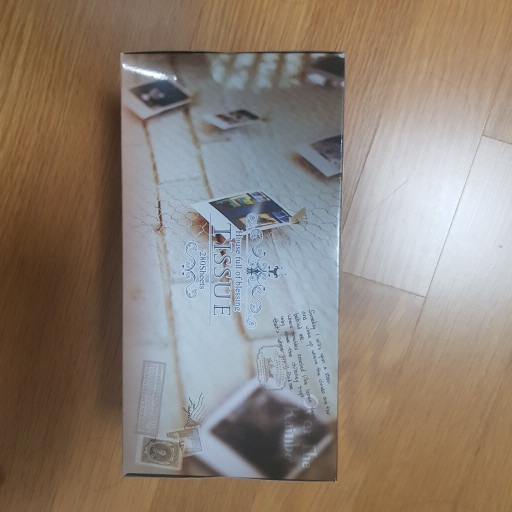Paper_0: (85, 35, 369, 495)
